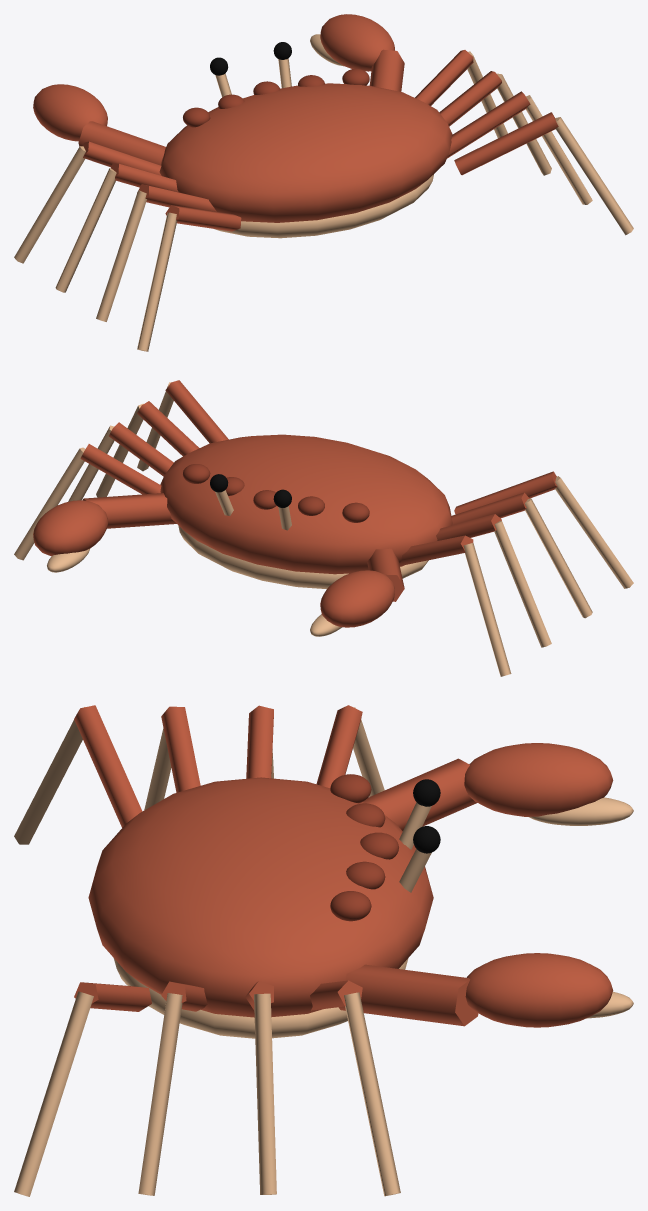
Rendered from crab.glb.
3 renders of one model, top to bottom at view 1: azimuth 30°, elevation 25°; view 2: azimuth 150°, elevation 25°; view 3: azimuth 270°, elevation 25°, orthographic. The views are drawn at different scales.
Visible parts, largest first — view 1: CrabShellAssembly, LegLowerAssembly (×2), LegUpperAssembly (×2), CrabBellyAssembly, ClawArmAssembly, ShellSpineAssembly, EyeStalkAssembly, CrabEyeAssembly; view 2: CrabShellAssembly, LegUpperAssembly (×2), LegLowerAssembly (×2), CrabBellyAssembly, ClawArmAssembly, ShellSpineAssembly, CrabEyeAssembly, EyeStalkAssembly; view 3: CrabShellAssembly, LegLowerAssembly (×2), LegUpperAssembly (×2), ClawArmAssembly, CrabBellyAssembly, ShellSpineAssembly, EyeStalkAssembly, CrabEyeAssembly.
Boxes of the visible parts, x1,y1,x2,y2 form: CrabShellAssembly: [33, 14, 452, 222]; LegLowerAssembly (×2): [14, 51, 633, 351]; LegUpperAssembly (×2): [83, 50, 558, 231]; CrabBellyAssembly: [214, 34, 433, 238]; ClawArmAssembly: [78, 49, 404, 165]; ShellSpineAssembly: [183, 68, 369, 127]; EyeStalkAssembly: [215, 58, 291, 97]; CrabEyeAssembly: [210, 42, 291, 75]; CrabShellAssembly: [33, 434, 452, 627]; LegUpperAssembly (×2): [80, 380, 557, 565]; LegLowerAssembly (×2): [14, 382, 633, 676]; CrabBellyAssembly: [47, 525, 428, 636]; ClawArmAssembly: [83, 493, 404, 601]; ShellSpineAssembly: [183, 464, 369, 522]; CrabEyeAssembly: [210, 474, 291, 507]; EyeStalkAssembly: [215, 490, 291, 530]; CrabShellAssembly: [88, 743, 613, 1027]; LegLowerAssembly (×2): [14, 707, 400, 1196]; LegUpperAssembly (×2): [74, 705, 362, 1011]; ClawArmAssembly: [339, 758, 478, 1026]; CrabBellyAssembly: [113, 797, 633, 1038]; ShellSpineAssembly: [330, 774, 398, 921]; EyeStalkAssembly: [399, 802, 431, 892]; CrabEyeAssembly: [413, 779, 440, 853].
Bounding box in the file's own units: 1.24 × 0.3465 × 0.8978.
